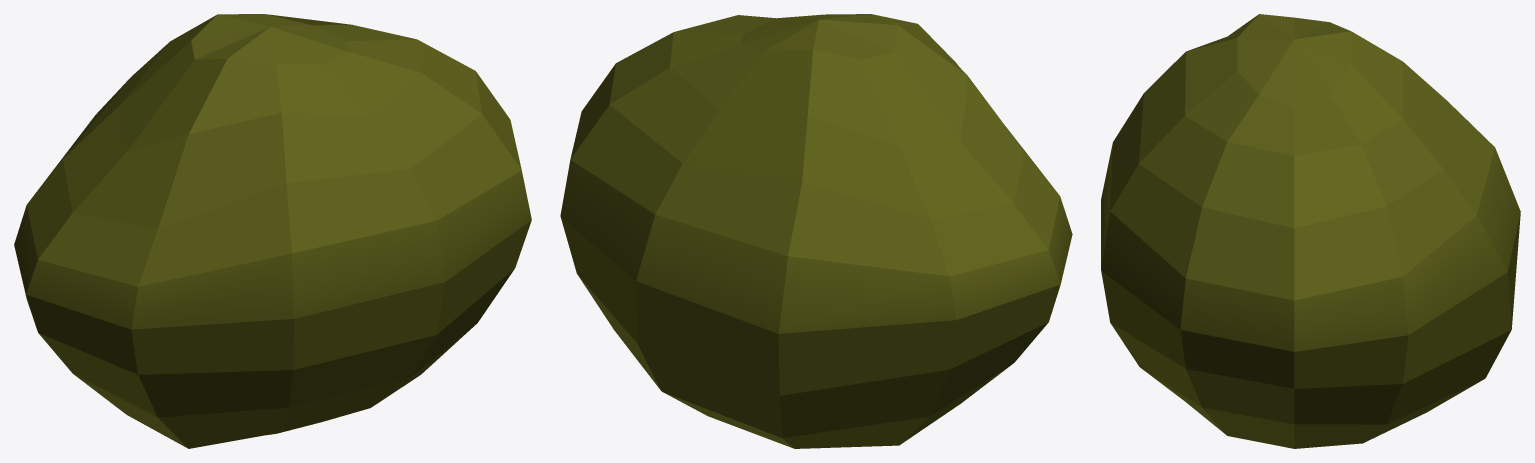
The model's file is bush01.fbx.
The picture shows the model from 3 angles, left to right: view 1: azimuth 30°, elevation 25°; view 2: azimuth 150°, elevation 25°; view 3: azimuth 270°, elevation 25°; orthographic projection. The views are drawn at different scales.
Visible parts, largest first — view 1: polySurface11; view 2: polySurface11; view 3: polySurface11.
Part boxes in pixels (bbox=[...]): polySurface11: bbox=[14, 14, 531, 448]; polySurface11: bbox=[560, 14, 1072, 448]; polySurface11: bbox=[1101, 14, 1520, 448].
Bounding box in the file's own units: 1.27 × 0.9576 × 0.9627.
